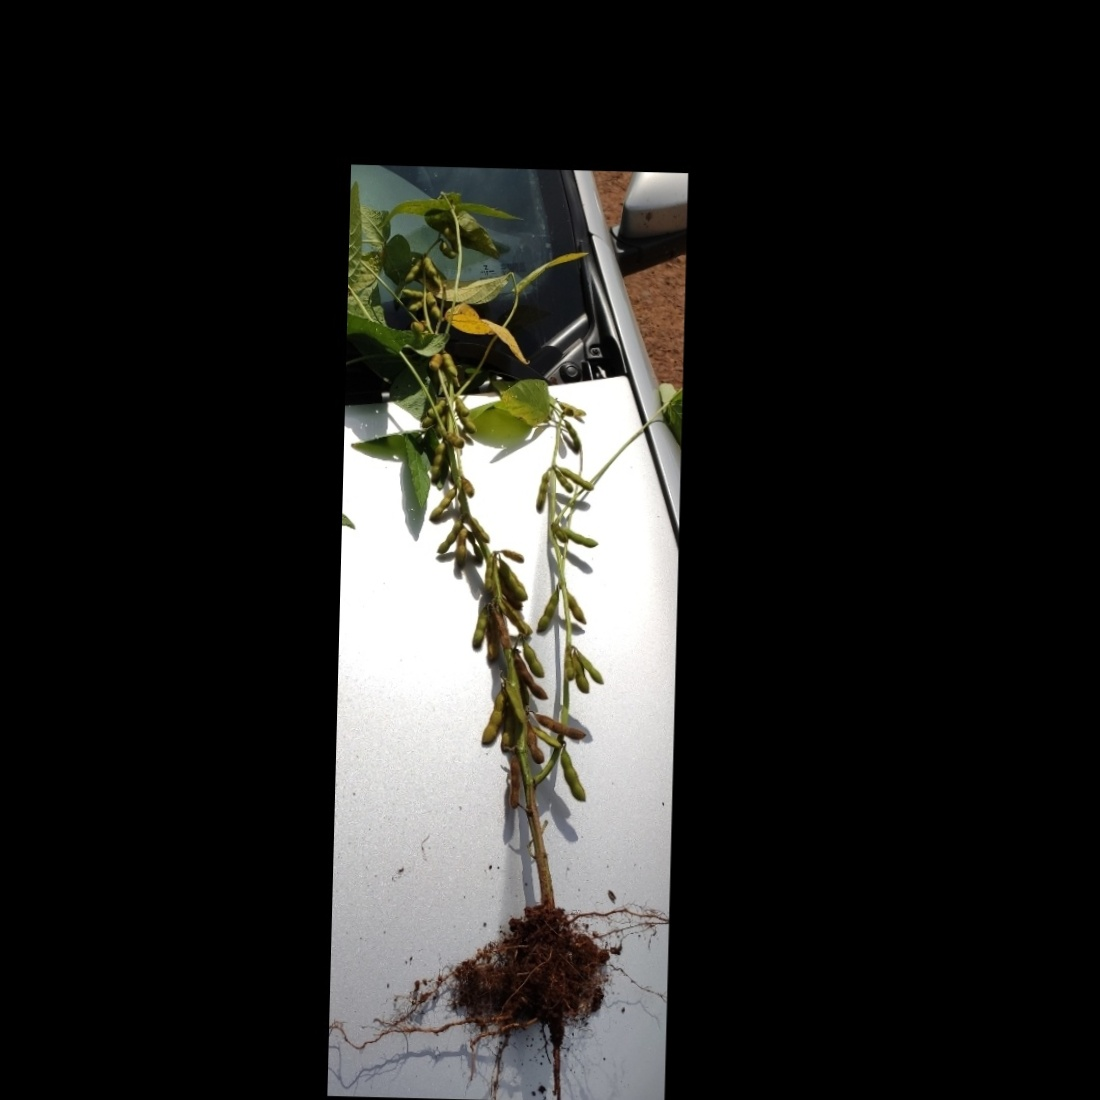pod: (529, 708, 595, 745), (558, 740, 590, 806), (568, 643, 608, 691), (479, 685, 507, 755), (515, 631, 551, 680), (534, 583, 565, 639), (425, 480, 457, 526), (466, 601, 491, 661), (502, 755, 525, 814), (519, 725, 566, 753), (553, 463, 598, 492), (434, 521, 463, 559), (561, 526, 601, 552), (533, 464, 552, 518), (439, 429, 474, 451), (453, 523, 469, 570), (438, 345, 460, 378)
soy: (332, 178, 689, 1062)
